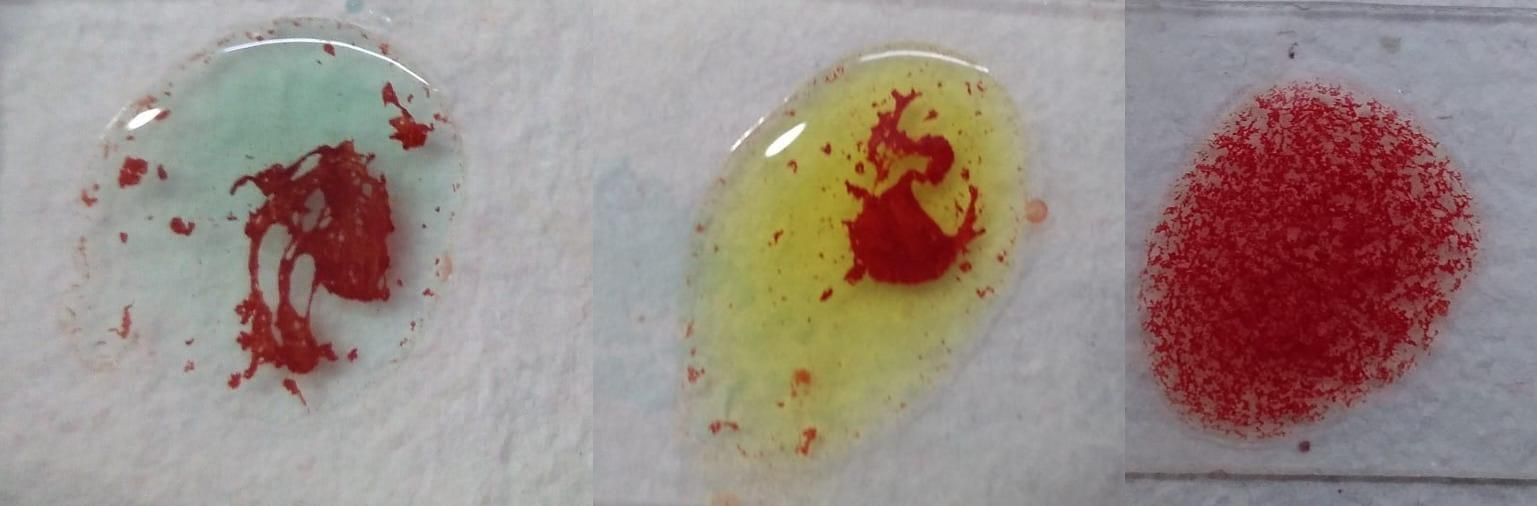A: (72, 27, 480, 426)
B: (677, 40, 1010, 450)
D: (1160, 72, 1463, 440)
